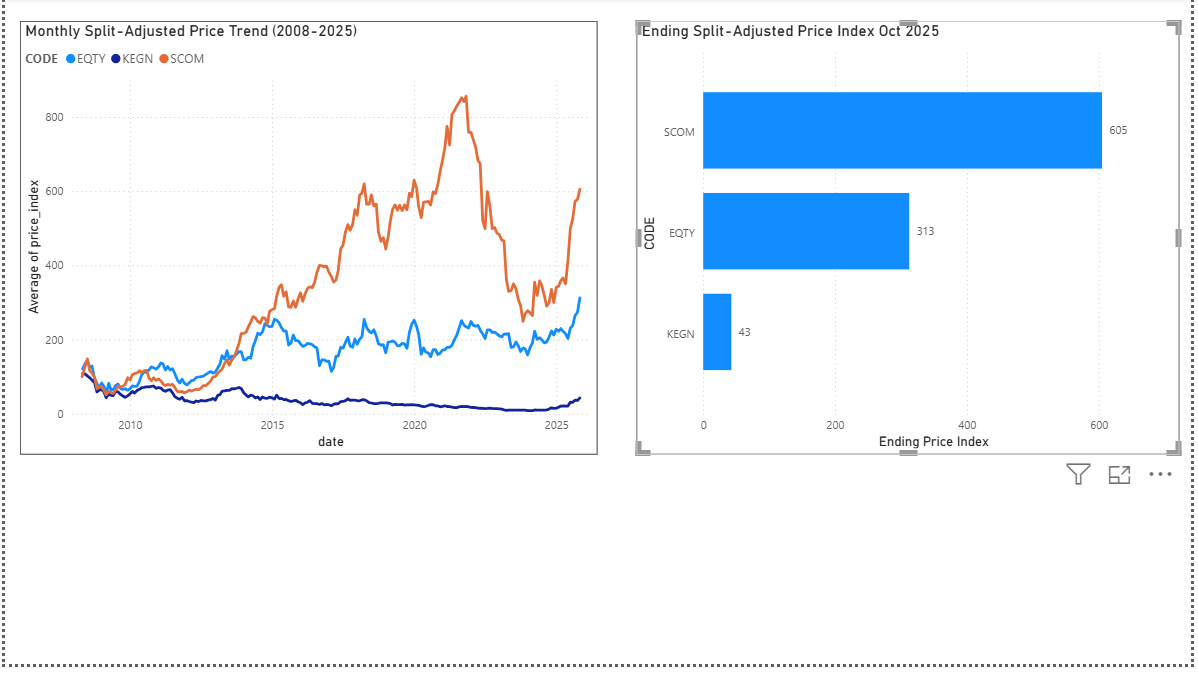

Layout of this report page (visuals, bound fields, positions):
{"tool":"powerbi","page":{"name":"Page 1","canvas":[1280,720],"ordinal":0},"visuals":[{"type":"lineChart","title":"Monthly Split-Adjusted Price Trend (2008-2025)","fields":{"Category":["nse_monthly_stocks.date"],"Y":["Avg(nse_monthly_stocks.price_index)"],"Series":["nse_monthly_stocks.CODE"]},"box":[16.2,25.9,623.4,468],"z":1},{"type":"clusteredBarChart","title":"Ending Split-Adjusted Price Index Oct 2025","fields":{"Category":["nse_monthly_stocks.CODE"],"Y":["nse_three_stocks.Ending Price Index"]},"box":[681.7,25.9,586.2,468],"z":2}]}

Visuals, with their boxes in screenshot pixels (x1, y1, x2, y2), scaled from the page's 1280x720 canvas onto the 1198x676 screenshot:
"Monthly Split-Adjusted Price Trend (2008-2025)" lineChart: {"x1": 15, "y1": 24, "x2": 599, "y2": 464}
"Ending Split-Adjusted Price Index Oct 2025" clusteredBarChart: {"x1": 638, "y1": 24, "x2": 1187, "y2": 464}
